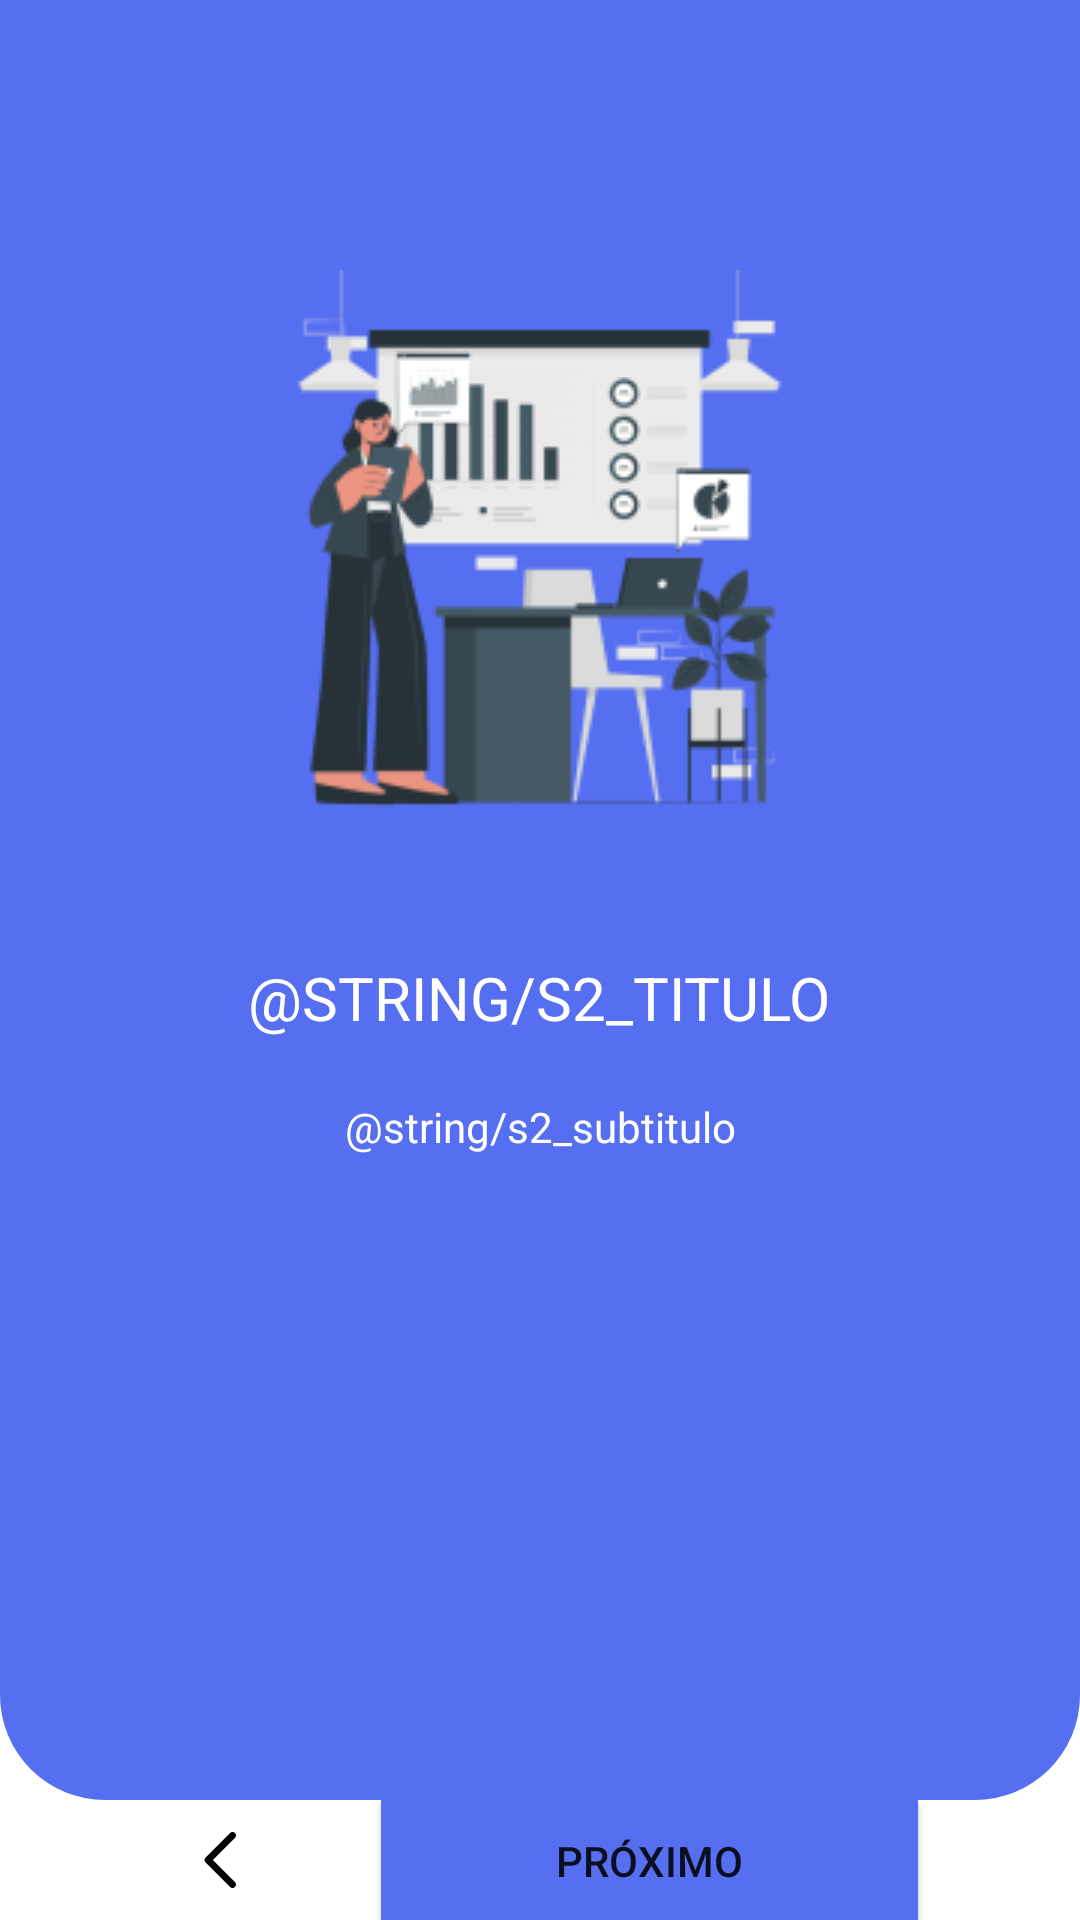

Screen size 1080 × 1920. Icon name, then its box in pixels as {"left": x1, "top": y1, "right": x2, "bottom": y2}:
chevron left: {"left": 204, "top": 1832, "right": 236, "bottom": 1888}
